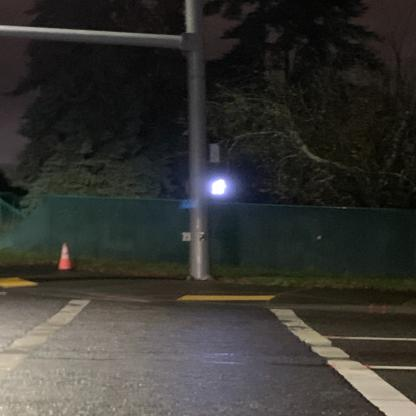Walk: (208, 179, 232, 195)
